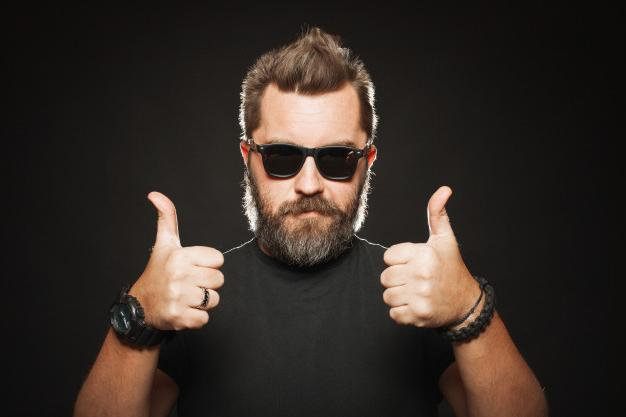thumbsup: (146, 190, 226, 330), (380, 185, 455, 325)
